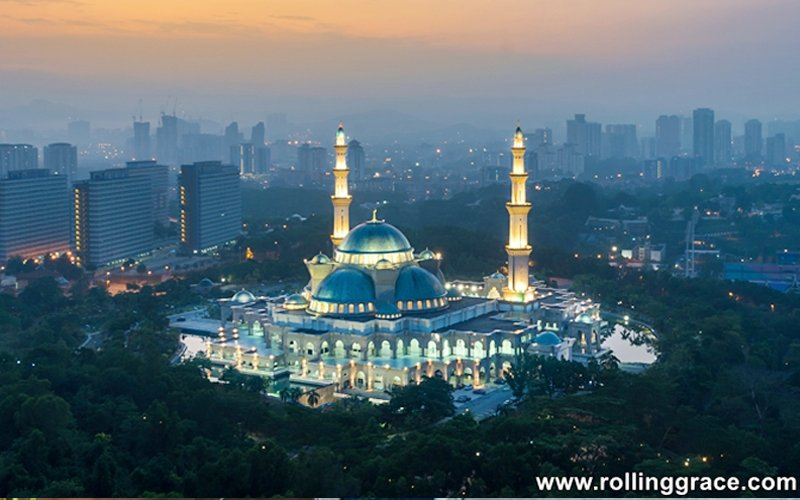Mosque: (167, 119, 603, 407)
